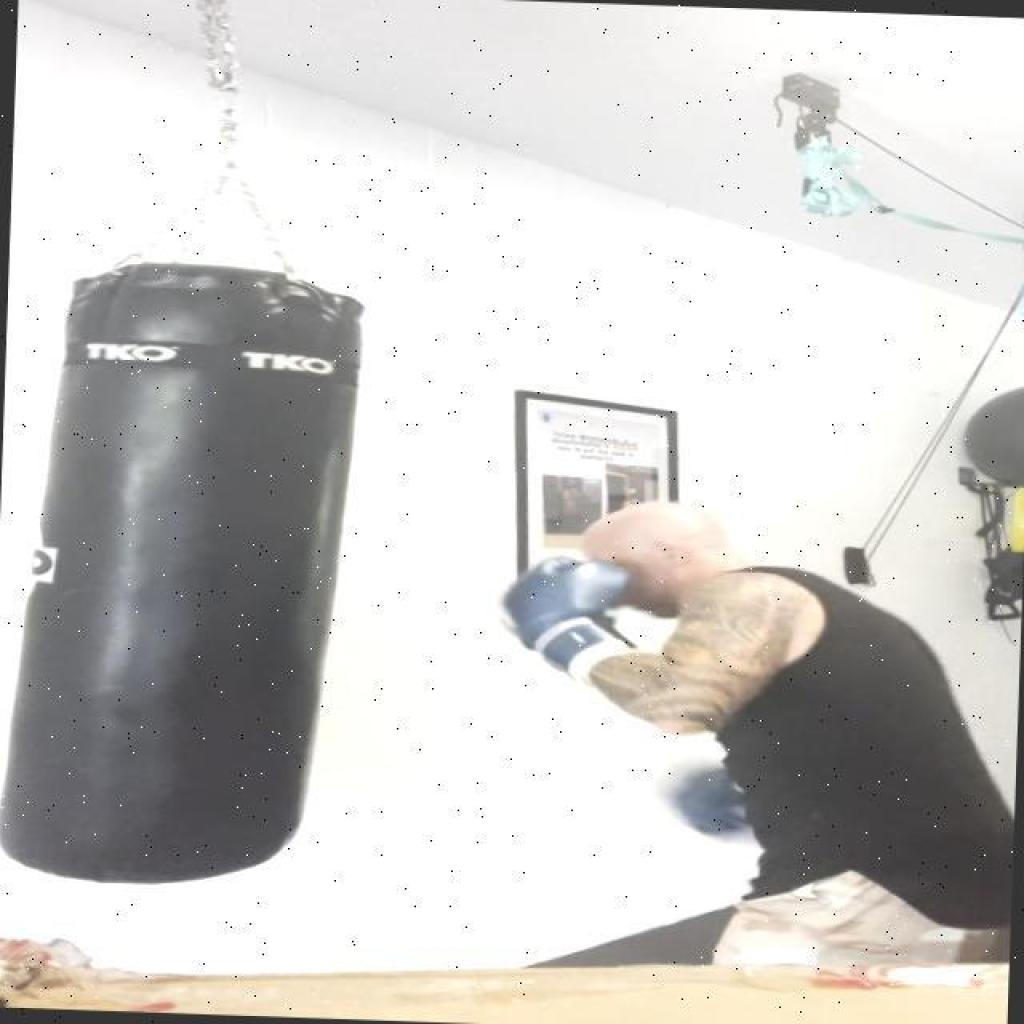bag: (16, 256, 365, 885)
